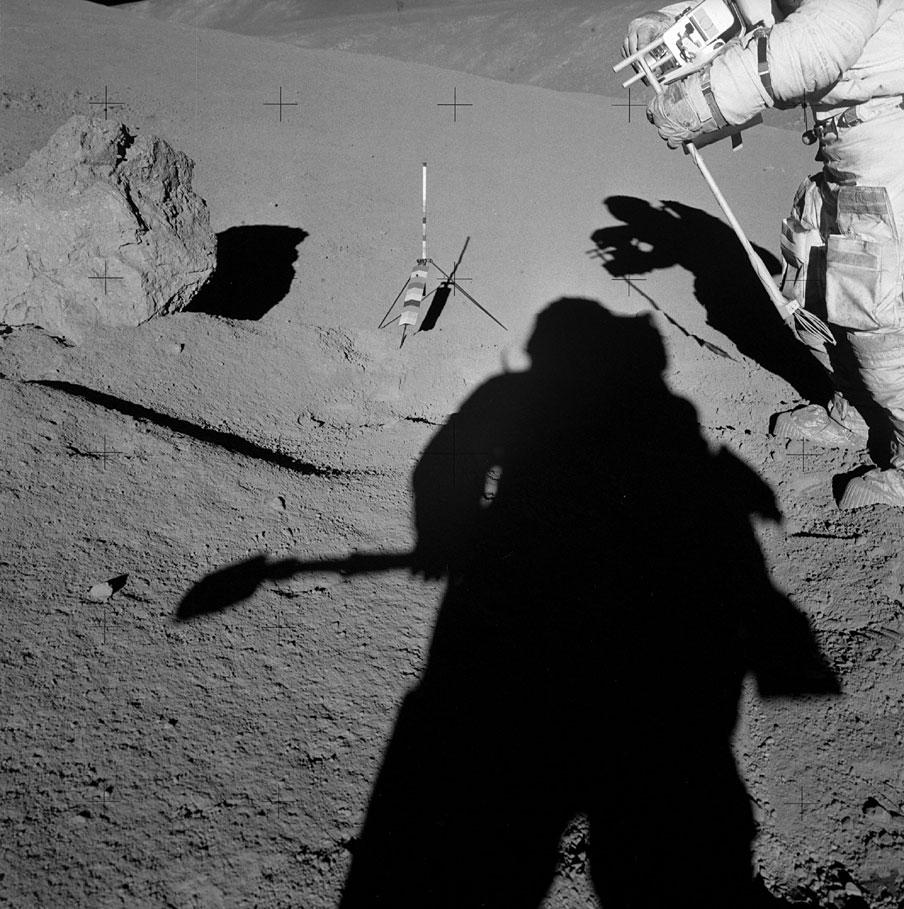rock: (0, 115, 217, 341)
